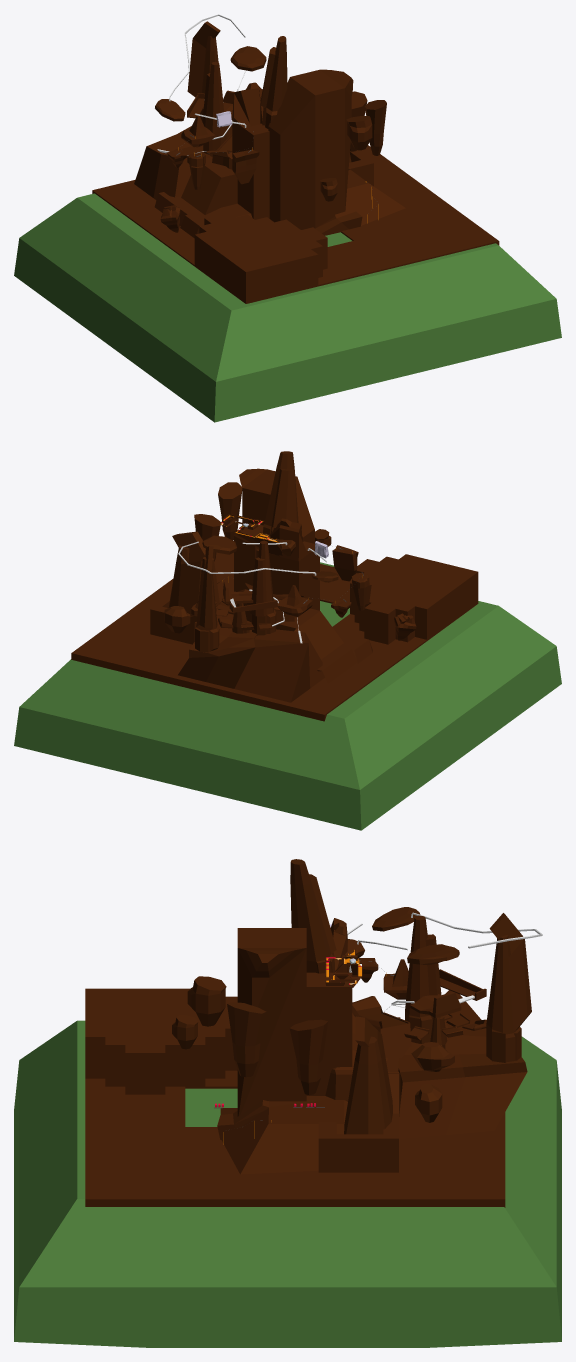
Rendered from MapaOptimizado_NivelNuevo.glb.
3 views of the same model, one above another, from view 1: azimuth 30°, elevation 25°; view 2: azimuth 150°, elevation 25°; view 3: azimuth 270°, elevation 25° (orthographic). The views are drawn at different scales.
Parts seen in each view (by area): view 1: Suelo, MontañaSuelo, csg_Base2, Modulo Montaña 3, Modulo Montaña 5, Modulo Montaña 6, Modulo Montaña 1, Modulo Montaña 4, Modulo Montaña Grande 2, Modulo Flotante 2, Modulo Montaña Rampa, Modulo Flotante Pequeño 1 (+5 smaller); view 2: Suelo, MontañaSuelo, Modulo Montaña 3, csg_Base2, Modulo Montaña 6.001, Modulo Montaña 5, Modulo Montaña 6, Modulo Montaña 4, Plane, Modulo Flotante 2, pared351, Modulo Montaña Grande 2 (+6 smaller); view 3: Suelo, MontañaSuelo, csg_Base2, Modulo Montaña 3, Modulo Montaña 1, Modulo Montaña 6, Modulo Montaña 6.001, Plane, Modulo Montaña 5, Modulo Montaña 4, Modulo Flotante 2, Modulo Flotante 1 (+14 smaller).
Boxes of the visible parts, left/top/right/bottom form: Suelo: left=14, top=193, right=561, bottom=422; MontañaSuelo: left=92, top=145, right=499, bottom=303; csg_Base2: left=181, top=69, right=353, bottom=229; Modulo Montaña 3: left=134, top=126, right=211, bottom=200; Modulo Montaña 5: left=260, top=36, right=287, bottom=128; Modulo Montaña 6: left=187, top=21, right=220, bottom=121; Modulo Montaña 1: left=346, top=169, right=405, bottom=225; Modulo Montaña 4: left=202, top=62, right=226, bottom=156; Modulo Montaña Grande 2: left=232, top=82, right=263, bottom=126; Modulo Flotante 2: left=364, top=100, right=386, bottom=155; Modulo Montaña Rampa: left=315, top=194, right=362, bottom=235; Modulo Flotante Pequeño 1: left=346, top=116, right=372, bottom=150; Suelo: left=14, top=562, right=561, bottom=830; MontañaSuelo: left=71, top=552, right=478, bottom=721; Modulo Montaña 3: left=178, top=613, right=324, bottom=702; csg_Base2: left=216, top=468, right=343, bottom=659; Modulo Montaña 6.001: left=168, top=531, right=219, bottom=616; Modulo Montaña 5: left=263, top=451, right=301, bottom=534; Modulo Montaña 6: left=194, top=546, right=219, bottom=652; Modulo Montaña 4: left=250, top=540, right=276, bottom=635; Plane: left=150, top=594, right=220, bottom=644; Modulo Flotante 2: left=218, top=482, right=242, bottom=540; pared351: left=220, top=514, right=282, bottom=555; Modulo Montaña Grande 2: left=270, top=518, right=310, bottom=561; Suelo: left=14, top=1020, right=561, bottom=1347; MontañaSuelo: left=85, top=988, right=505, bottom=1207; csg_Base2: left=237, top=928, right=400, bottom=1116; Modulo Montaña 3: left=398, top=990, right=527, bottom=1139; Modulo Montaña 1: left=221, top=1096, right=347, bottom=1174; Modulo Montaña 6: left=486, top=913, right=531, bottom=1062; Modulo Montaña 6.001: left=344, top=1016, right=392, bottom=1134; Plane: left=318, top=1071, right=398, bottom=1172; Modulo Montaña 5: left=290, top=859, right=336, bottom=973; Modulo Montaña 4: left=405, top=915, right=441, bottom=1043; Modulo Flotante 2: left=227, top=1002, right=266, bottom=1077; Modulo Flotante 1: left=289, top=1019, right=328, bottom=1095.
Size of the model in its own units: 648 by 556 by 648.
32 materials, 13 textured.
